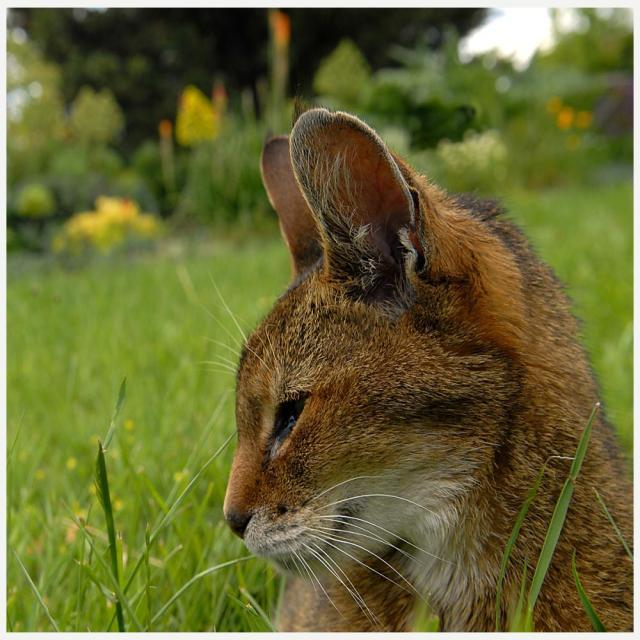Abyssinian: (222, 104, 561, 569)
